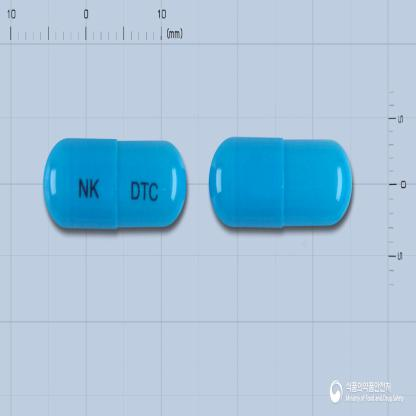pill: (42, 134, 188, 230), (208, 135, 353, 228)
